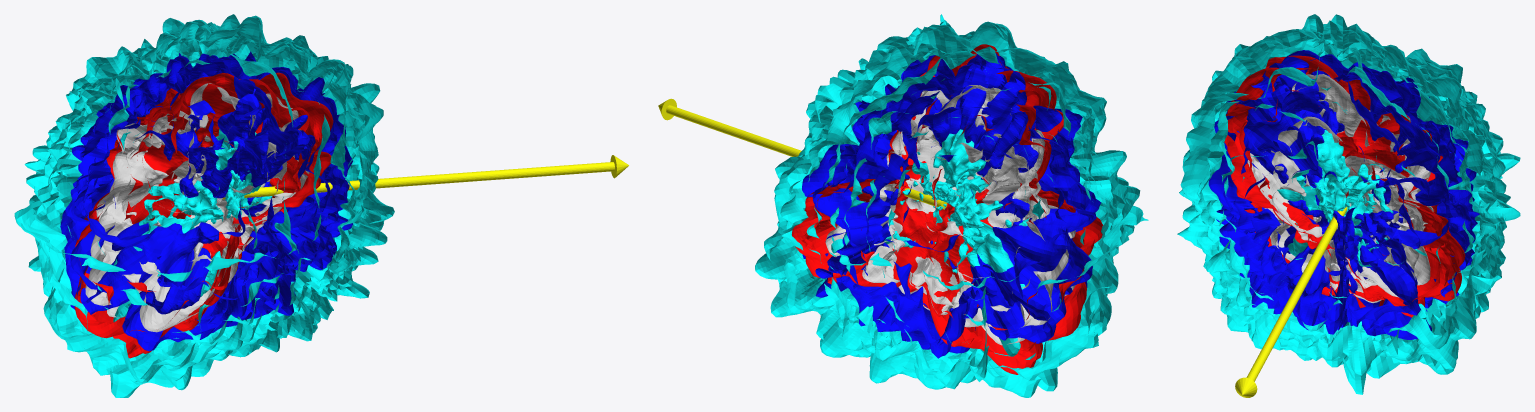
Rendered from hs262_arrow.gltf.
3 renders of one model, left to right at view 1: azimuth 30°, elevation 25°; view 2: azimuth 150°, elevation 25°; view 3: azimuth 270°, elevation 25°, orthographic. The views are drawn at different scales.
Visible parts, largest first — view 1: Renderer Node; view 2: Renderer Node; view 3: Renderer Node.
Part boxes in pixels (bbox=[...]): Renderer Node: bbox=[14, 14, 628, 397]; Renderer Node: bbox=[658, 14, 1148, 397]; Renderer Node: bbox=[1177, 14, 1520, 397].
Size of the model in its own units: 2.64e+16 by 1.66e+16 by 1.49e+16.
